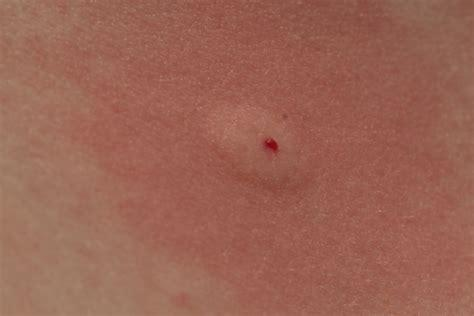Yellow-Jacket: (108, 0, 474, 230)
